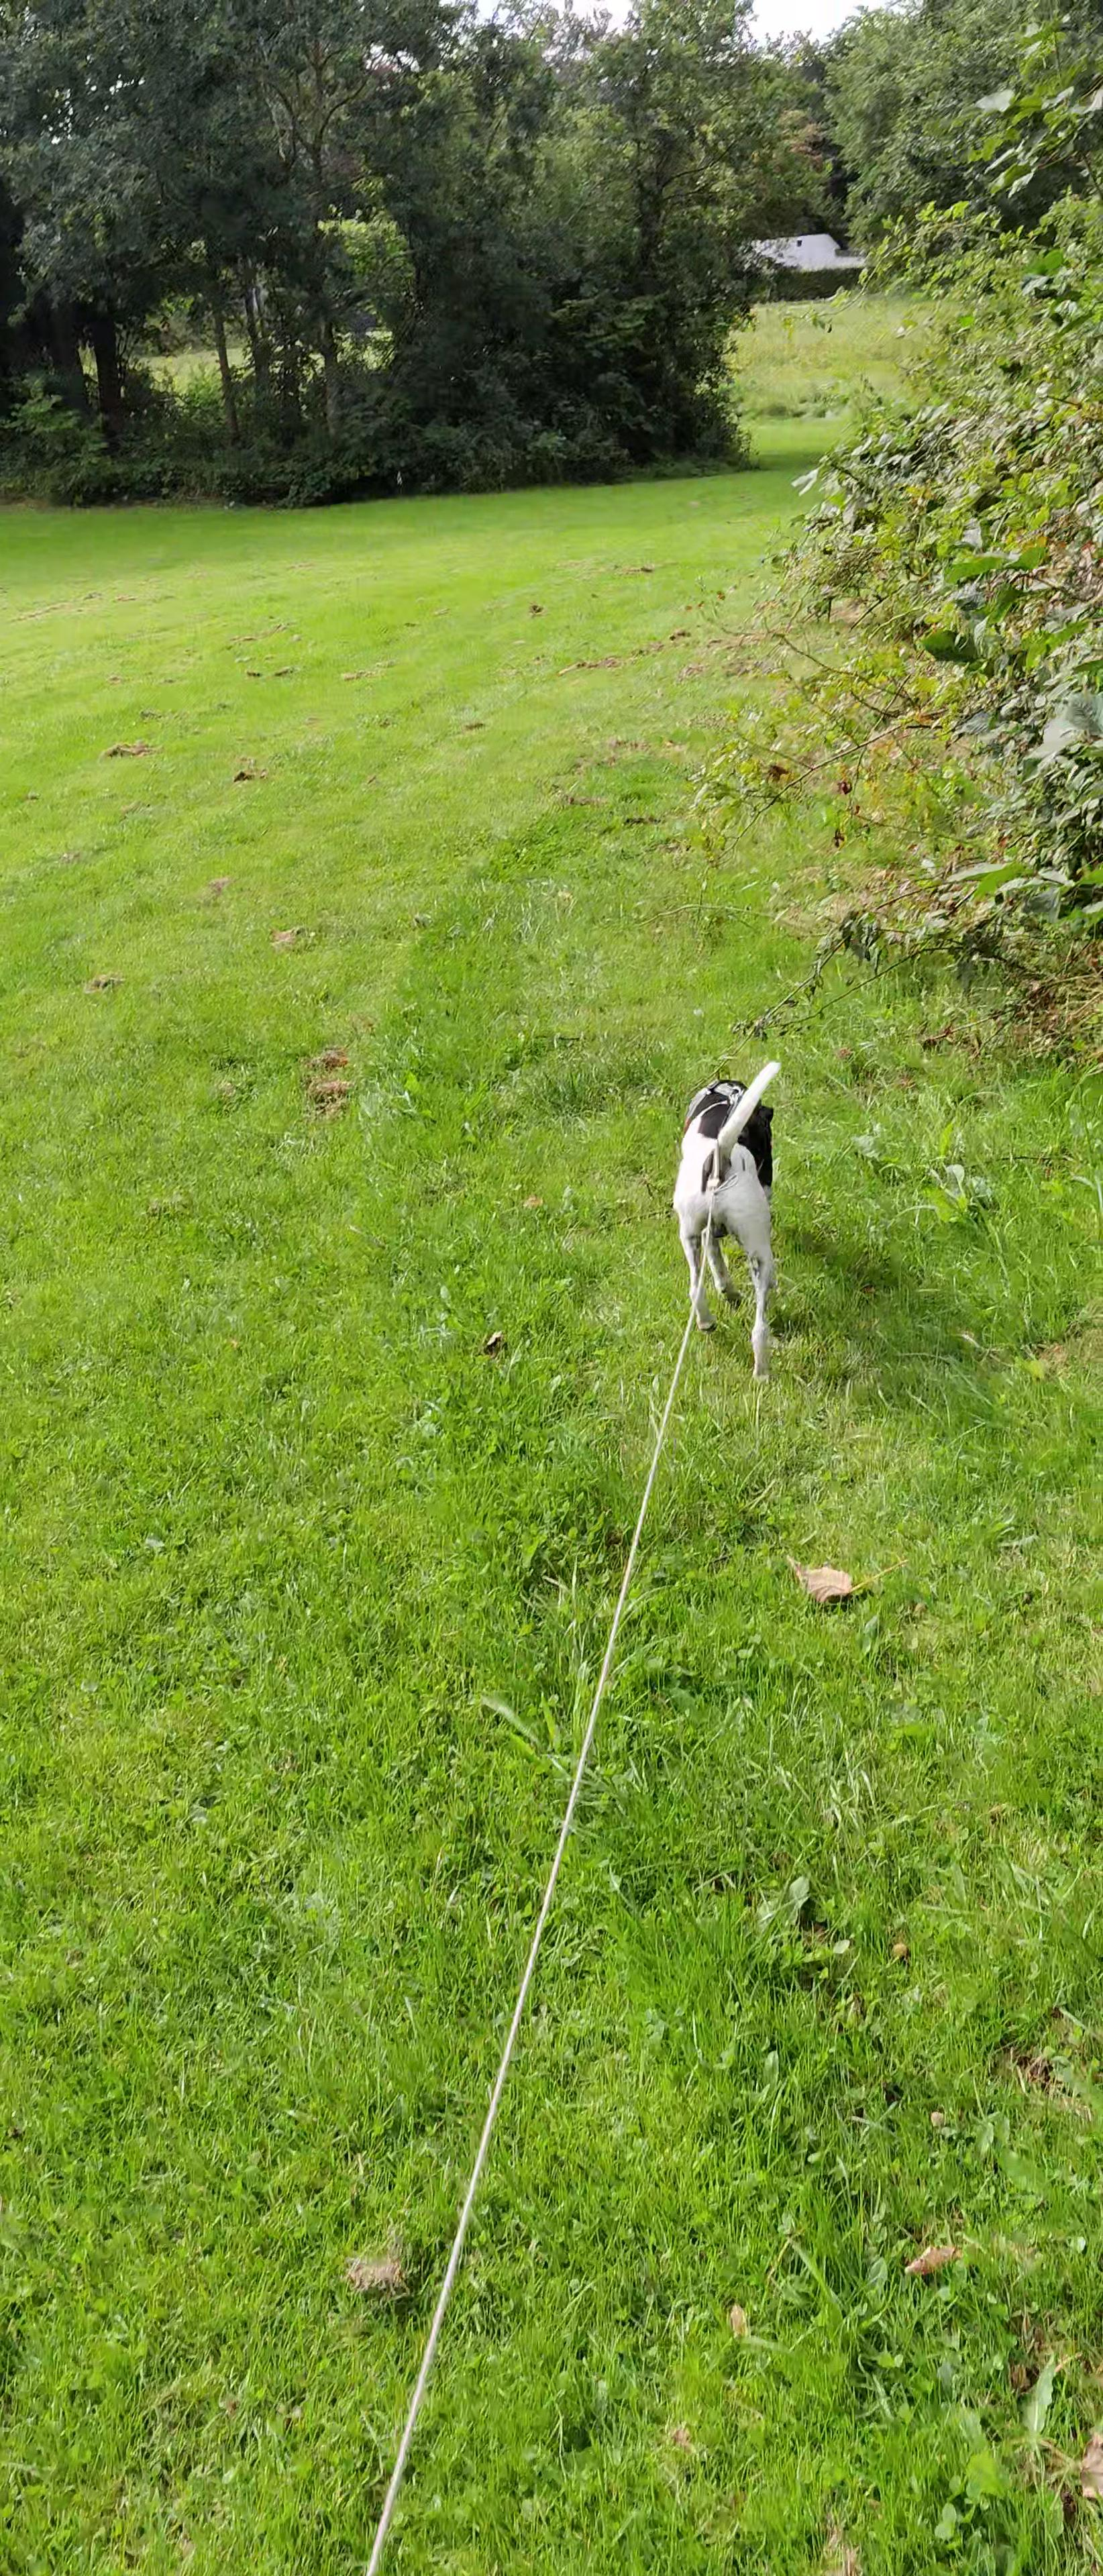Dog: (654, 1027, 807, 1398)
